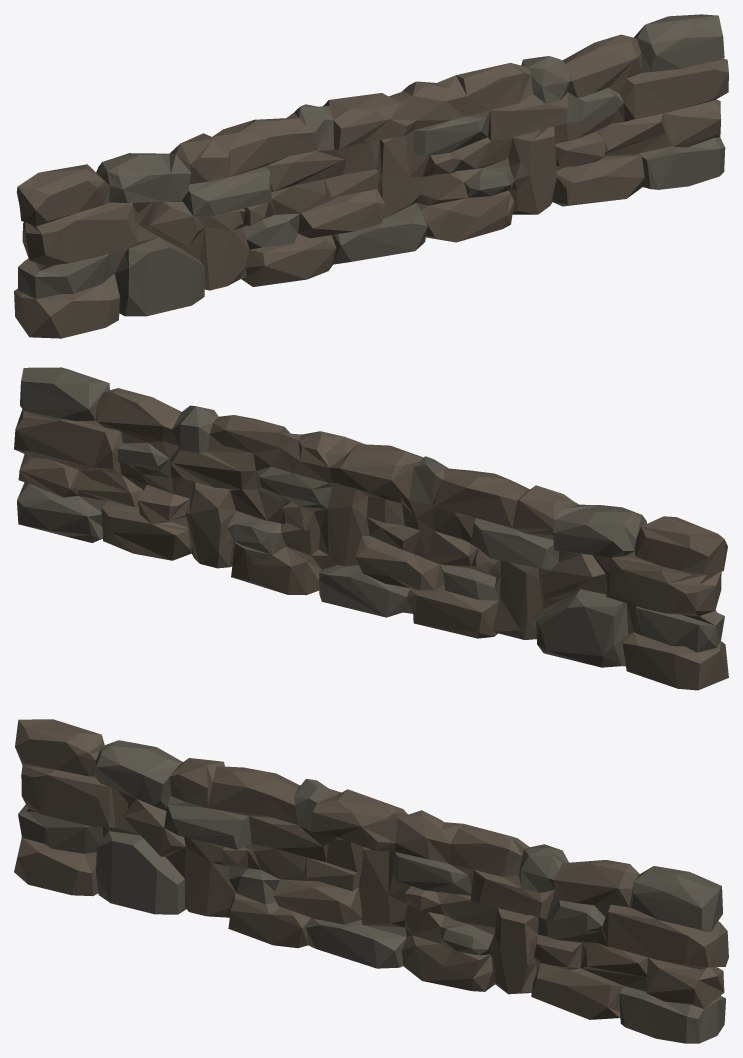
File: synty-prop-stonewall-01.gltf
3 views of the same model, one above another, from view 1: azimuth 30°, elevation 25°; view 2: azimuth 150°, elevation 25°; view 3: azimuth 330°, elevation 25° (orthographic).
Visible parts, largest first — view 1: SM_Prop_StoneWall_01; view 2: SM_Prop_StoneWall_01; view 3: SM_Prop_StoneWall_01.
Part boxes in pixels (left/top/right/bottom): SM_Prop_StoneWall_01: left=14, top=14, right=728, bottom=338; SM_Prop_StoneWall_01: left=14, top=367, right=728, bottom=690; SM_Prop_StoneWall_01: left=14, top=719, right=728, bottom=1043.
Size of the model in its own units: 5.13 by 1.09 by 0.5071.
1 material, 1 textured.
